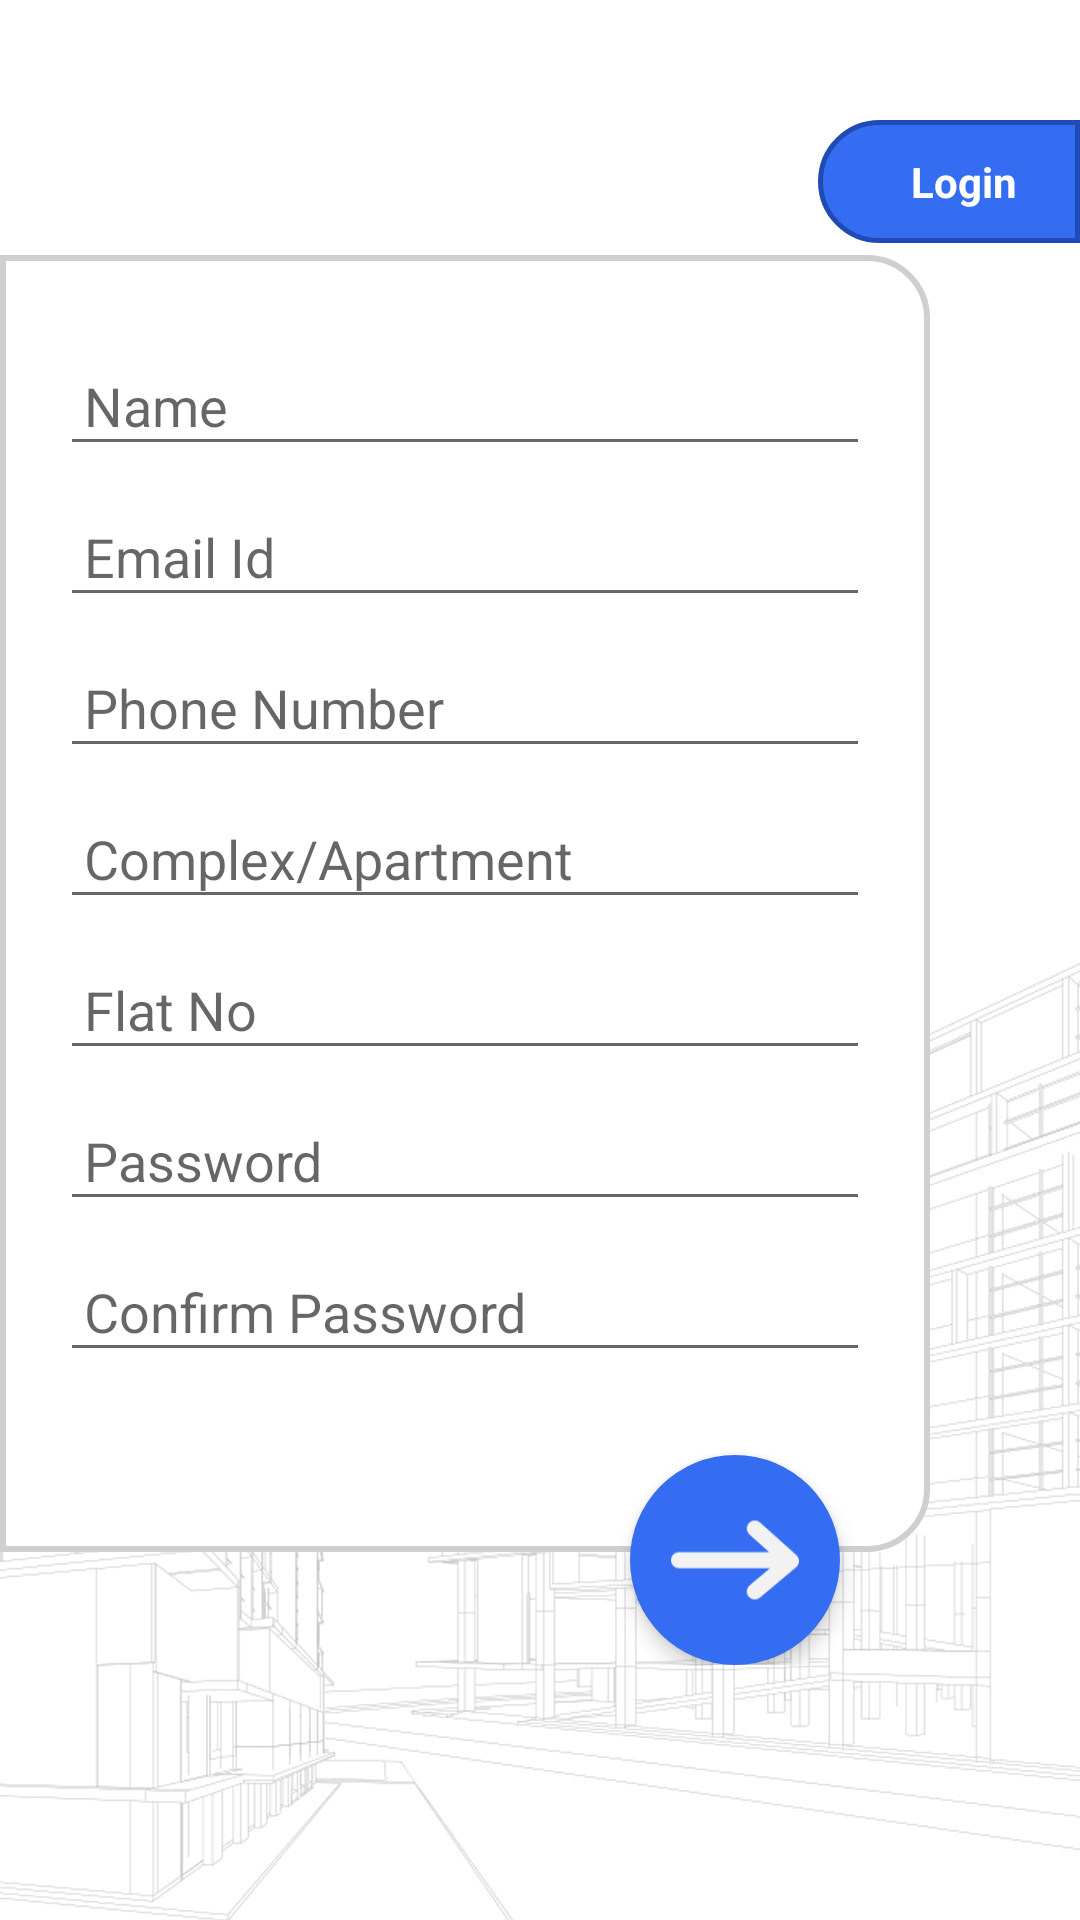

Screen size 1080 × 1920. Icon name, then its center in pixels as [x,y]:
right arrow: [735,1560]
